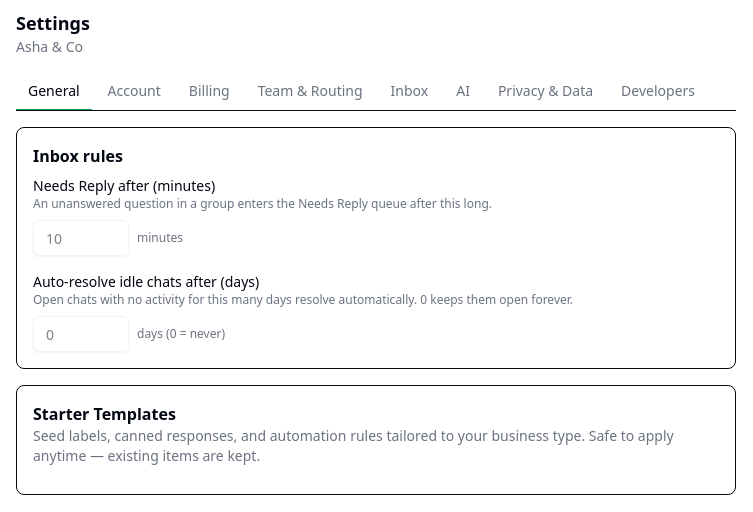
Test: SettingsPage › billing tab is hidden behind a note for agents
Expected: the text "Asha & Co" is shown, [16, 37, 83, 56]
Step 1. Click the tab "Billing" → coordinates (209, 92), box [177, 73, 242, 111]
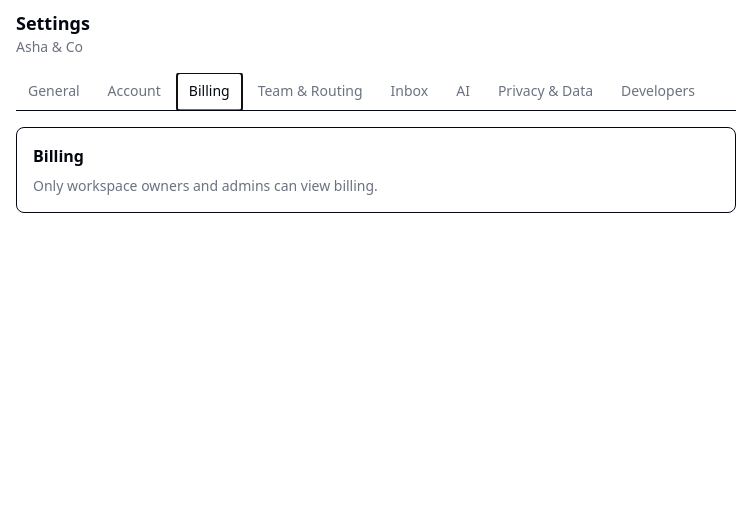
Expected: the text "Only workspace owners and admins can view billing." is shown, [33, 176, 378, 195]
